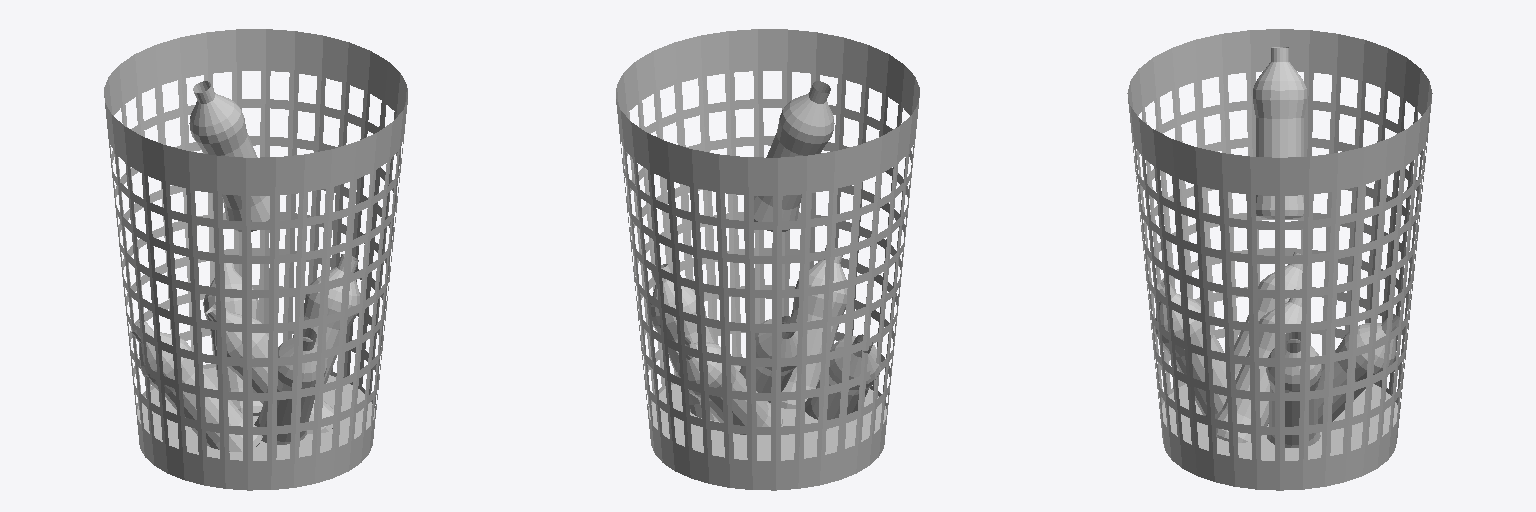
File: DustbinWithCan_000024.obj
3 renders of one model, left to right at view 1: azimuth 30°, elevation 25°; view 2: azimuth 150°, elevation 25°; view 3: azimuth 270°, elevation 25°, orthographic.
Visible parts, largest first — view 1: Cylinder, Plane.006, Plane.005, Plane.001, Plane.004, Plane.003, Plane.002; view 2: Cylinder, Plane.006, Plane.001, Plane.002, Plane.005, Plane.003, Plane.004; view 3: Cylinder, Plane.006, Plane.001, Plane.004, Plane.003, Plane.002, Plane.005.
Boxes of the visible parts, x1,y1,x2,y2 form: Cylinder: [104, 29, 407, 490]; Plane.006: [189, 81, 269, 231]; Plane.005: [131, 320, 262, 451]; Plane.001: [254, 328, 326, 444]; Plane.004: [206, 304, 333, 433]; Plane.003: [293, 254, 359, 383]; Plane.002: [203, 263, 262, 415]; Cylinder: [616, 29, 919, 490]; Plane.006: [754, 81, 834, 231]; Plane.001: [781, 245, 847, 408]; Plane.002: [676, 337, 782, 434]; Plane.005: [805, 334, 881, 419]; Plane.003: [650, 264, 717, 420]; Plane.004: [739, 316, 797, 402]; Cylinder: [1127, 29, 1432, 490]; Plane.006: [1253, 47, 1306, 218]; Plane.001: [1155, 281, 1236, 417]; Plane.004: [1215, 289, 1301, 442]; Plane.003: [1266, 332, 1321, 447]; Plane.002: [1318, 314, 1404, 423]; Plane.005: [1234, 252, 1302, 375].
Size of the model in its own units: 2.6 by 3.49 by 2.6.